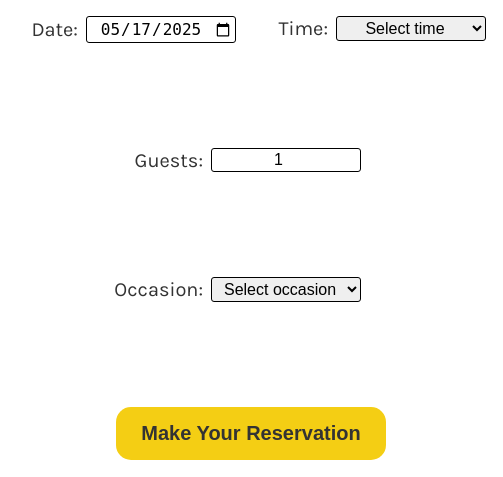
Test case: Input validation tests › it shows a validation error message when selecting a past date
The width and height of the screenshot is (503, 477).
In the date field labelled "Date:": {"x": 161, "y": 30} [86, 16, 236, 43], type "2025-05-11"
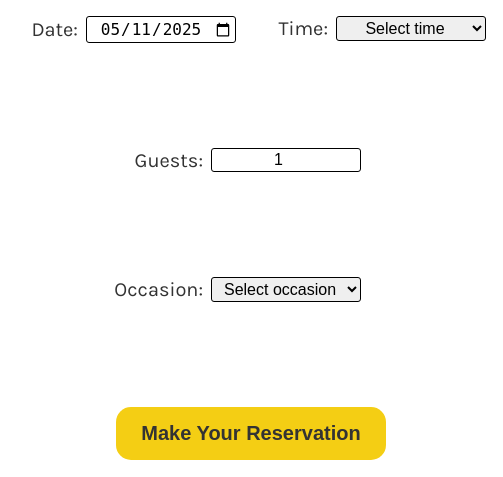
Leave the date field labelled "Date:", box [86, 16, 236, 43]
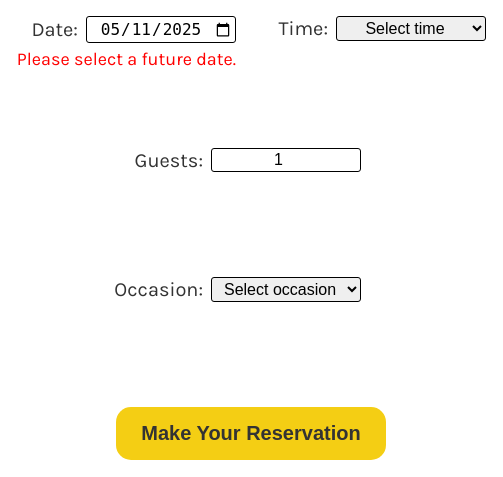
Expected: the text "Please select a future date." is shown 2 times
